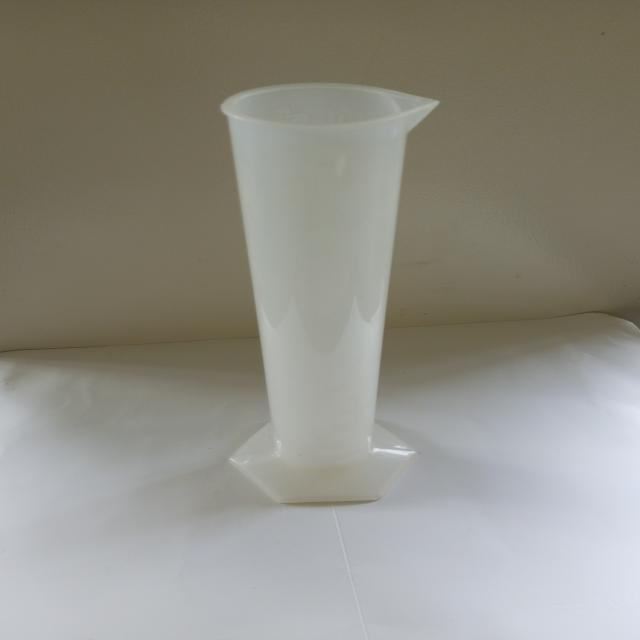graduated_cylinder: (177, 67, 459, 520)
